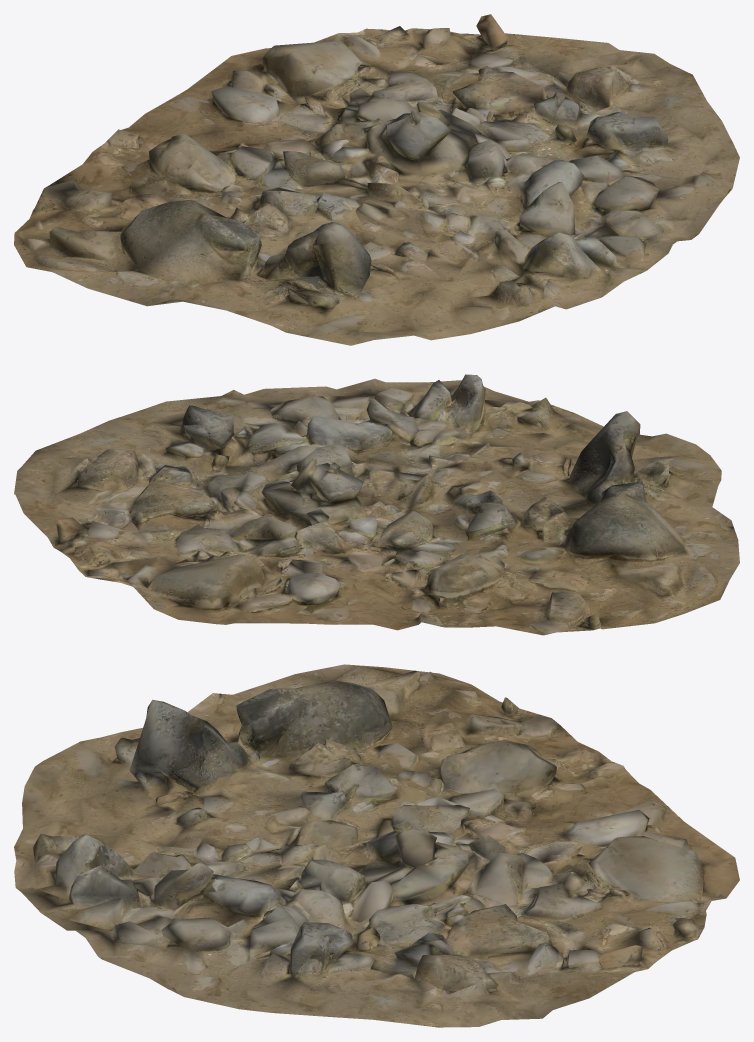
The model's file is sand_rocks_small_01.light.glb.
The picture shows the model from 3 angles, top to bottom: view 1: azimuth 30°, elevation 25°; view 2: azimuth 150°, elevation 25°; view 3: azimuth 270°, elevation 25°; orthographic projection. The views are drawn at different scales.
Visible parts, largest first — view 1: sand_rocks_small_01_LOD0; view 2: sand_rocks_small_01_LOD0; view 3: sand_rocks_small_01_LOD0.
Boxes of the visible parts, <box> form: sand_rocks_small_01_LOD0: <box>14,14,739,345</box>; sand_rocks_small_01_LOD0: <box>14,374,739,635</box>; sand_rocks_small_01_LOD0: <box>14,664,739,1027</box>.
Bounding box in the file's own units: 2 × 0.2285 × 1.67.
Materials: 1 (1 with a texture image).
